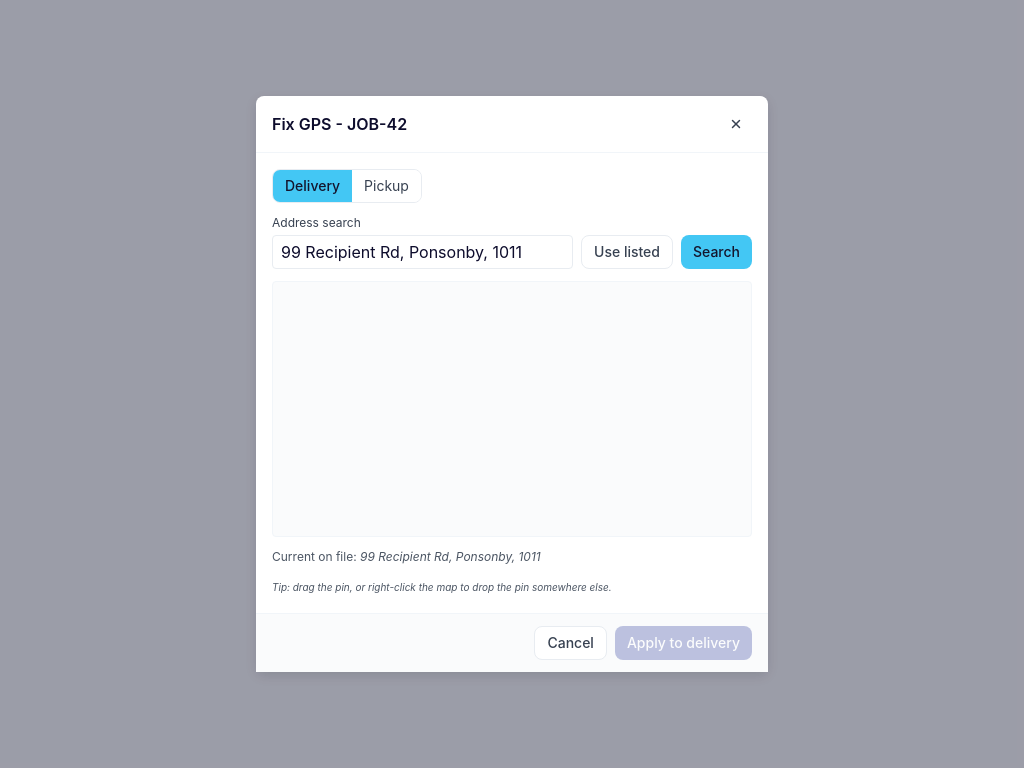
Test: FixGpsModal › forwardGeocode success updates the candidate card
Click the button "Search".
click(716, 252)  # box [681,235,752,269]
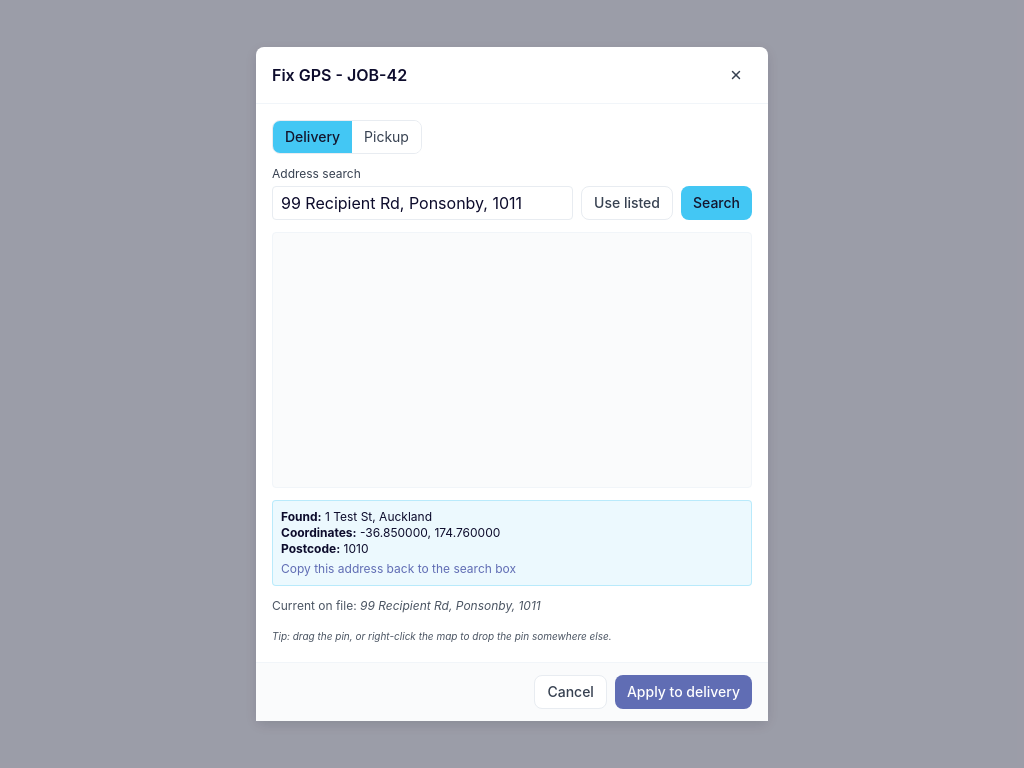
Expected: the text "Found: 1 Test St, Auckland" is shown, [281,509,432,524]
Expected: the text "Coordinates: -36.850000, 174.760000" is shown, [281,525,500,540]
